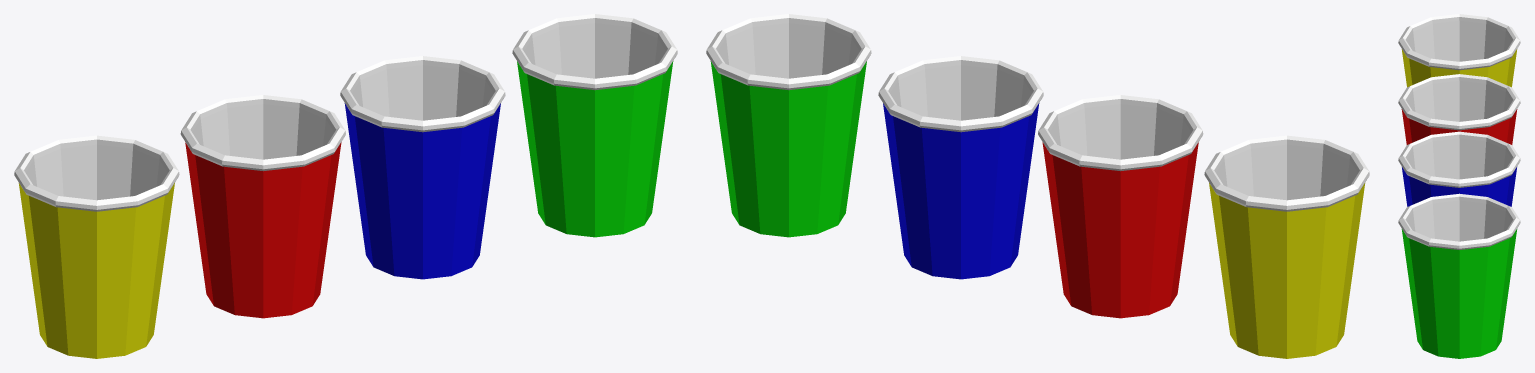
The picture shows the model from 3 angles, left to right: view 1: azimuth 30°, elevation 25°; view 2: azimuth 150°, elevation 25°; view 3: azimuth 270°, elevation 25°; orthographic projection. The views are drawn at different scales.
Visible parts, largest first — view 1: Node; view 2: Node; view 3: Node.
Boxes of the visible parts, <box> form: Node: <box>14,14,677,358</box>; Node: <box>706,14,1369,358</box>; Node: <box>1398,14,1520,358</box>.
Size of the model in its own units: 9.26 by 2.3 by 2.07.
